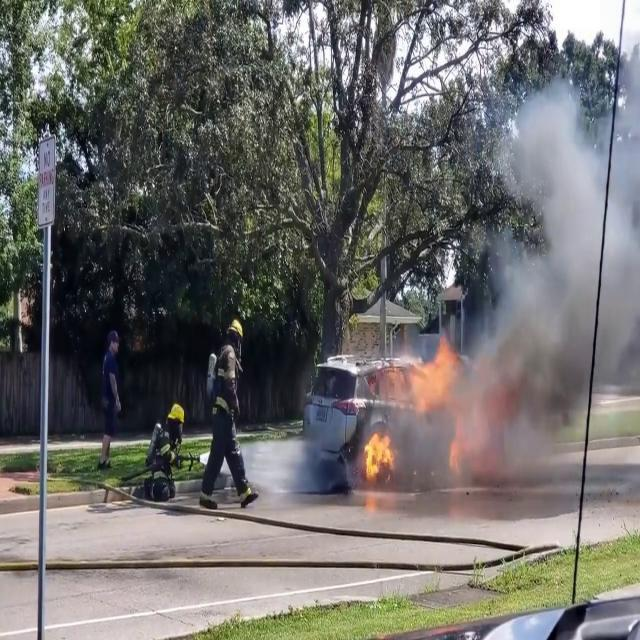Fire: (359, 423, 397, 489)
Smoke: (407, 48, 640, 497)
